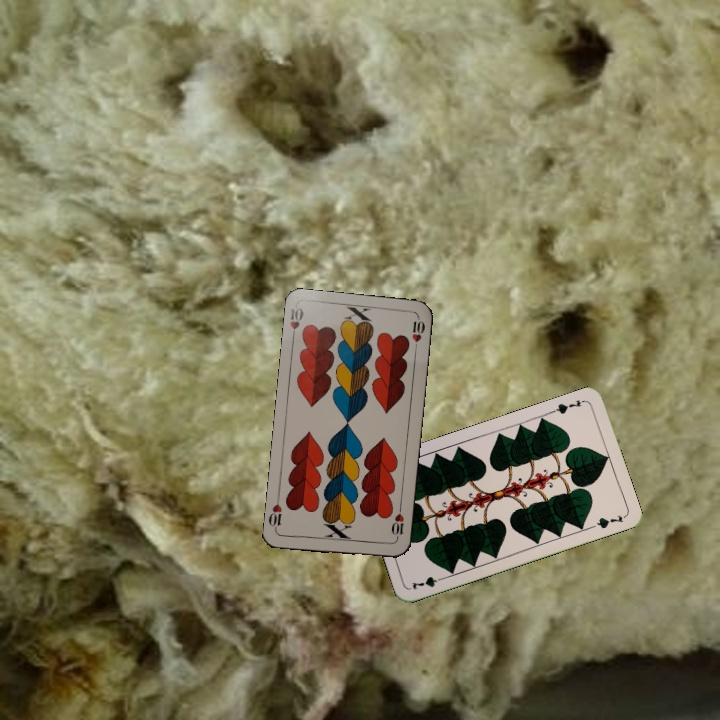G7: (408, 572, 448, 593), (548, 396, 588, 417)
H10: (387, 502, 407, 543), (286, 303, 306, 343)
